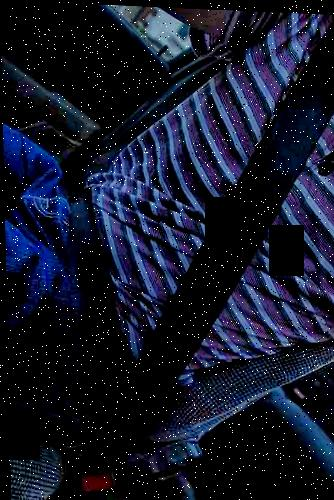seatbelt: (111, 39, 325, 427)
